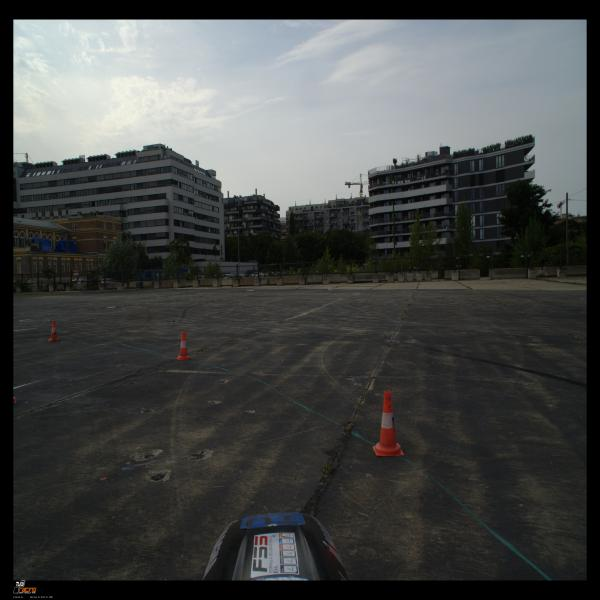orange_cone: (372, 391, 404, 456), (176, 331, 191, 360), (48, 320, 60, 342)
